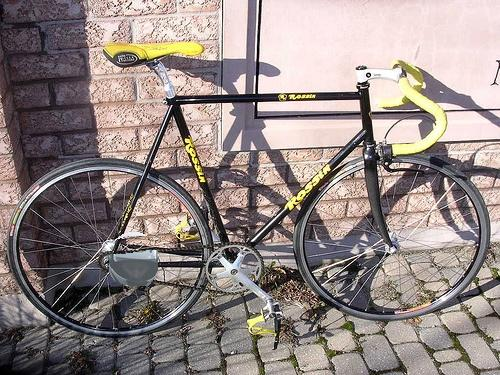tampered: (109, 233, 158, 288)
